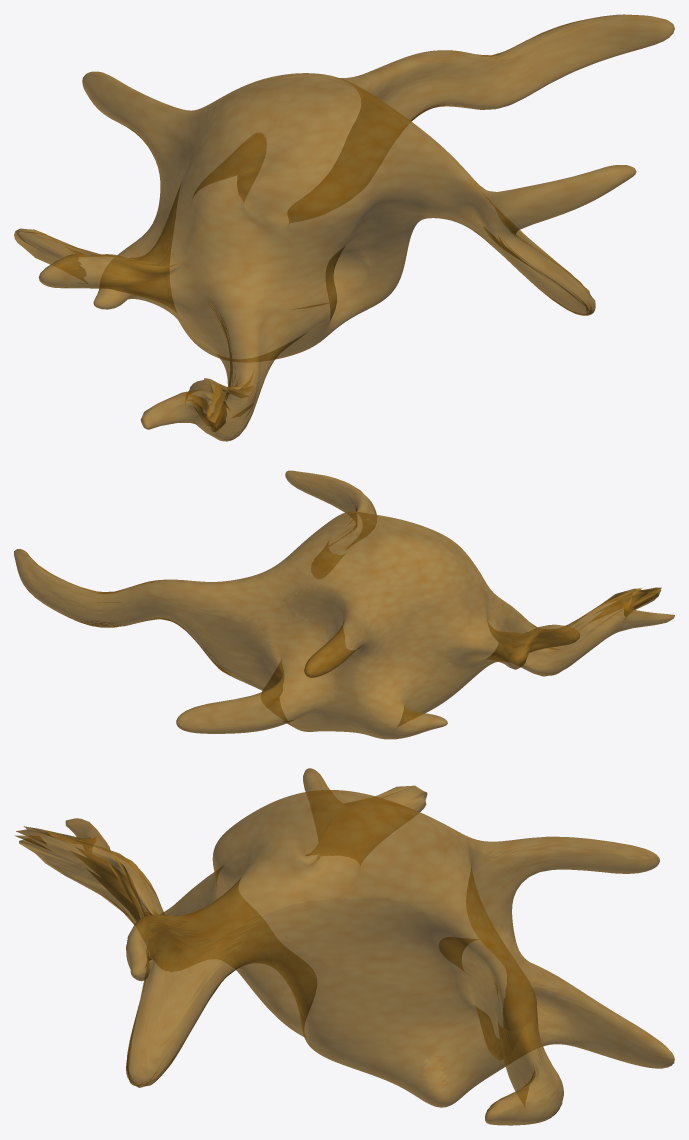
The model's file is eoastrion_001.glb.
3 views of the same model, one above another, from view 1: azimuth 30°, elevation 25°; view 2: azimuth 150°, elevation 25°; view 3: azimuth 270°, elevation 25° (orthographic). The views are drawn at different scales.
Parts seen in each view (by area): view 1: eoastion; view 2: eoastion; view 3: eoastion.
Part boxes in pixels (x1=…): eoastion: x1=14, y1=14, x2=674, y2=441; eoastion: x1=14, y1=470, x2=674, y2=739; eoastion: x1=14, y1=768, x2=674, y2=1125.
Size of the model in its own units: 7.4 by 2.51 by 5.7.
Materials: 1 (1 with a texture image).
